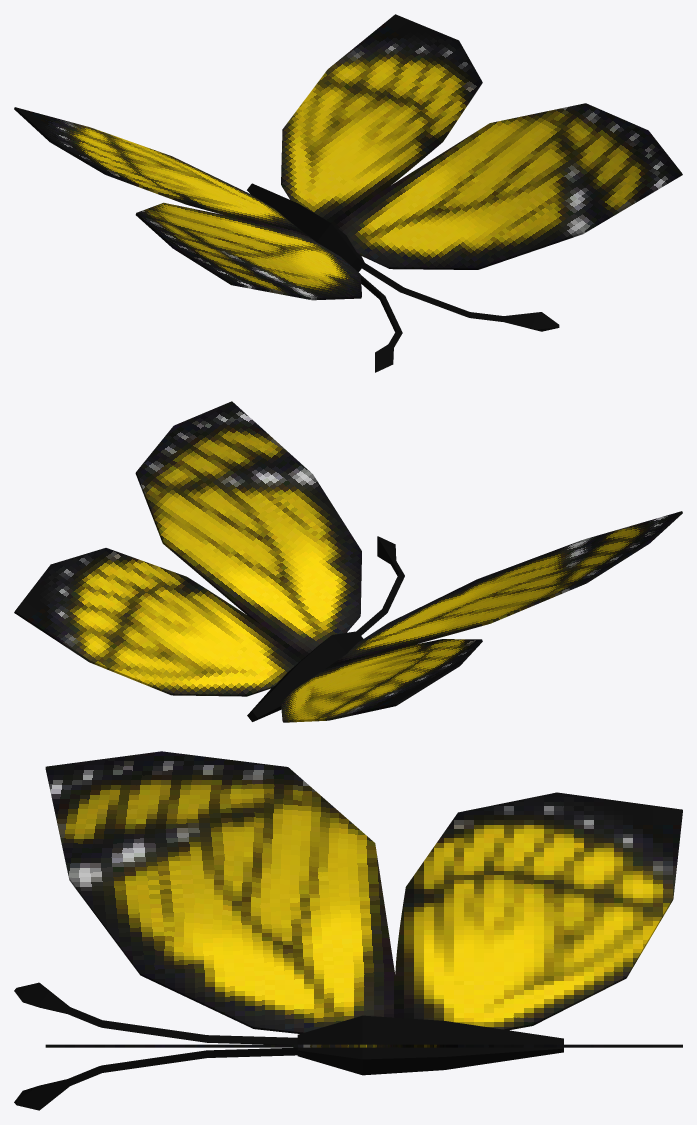
File: Personage_Butterfly_yellow.FBX
3 views of the same model, one above another, from view 1: azimuth 30°, elevation 25°; view 2: azimuth 150°, elevation 25°; view 3: azimuth 270°, elevation 25° (orthographic). The views are drawn at different scales.
Visible parts, largest first — view 1: Body; view 2: Body; view 3: Body.
Part boxes in pixels (<box>): Body: <box>14,14,682,372</box>; Body: <box>14,401,682,722</box>; Body: <box>14,751,682,1110</box>.
Size of the model in its own units: 37.94 by 10.67 by 36.45.
